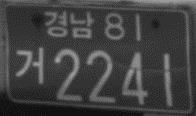1: (157, 53, 176, 105), (131, 13, 146, 41)
2: (53, 47, 83, 101), (86, 49, 115, 102)
4: (121, 51, 148, 105)
8: (103, 12, 125, 40)
거: (13, 46, 45, 84)
경남_O: (43, 9, 94, 39)
